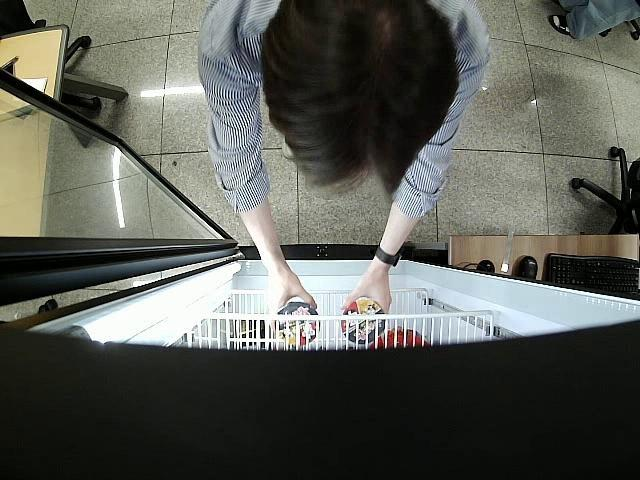08_buldak_S: (275, 302, 322, 346), (340, 298, 386, 342)
